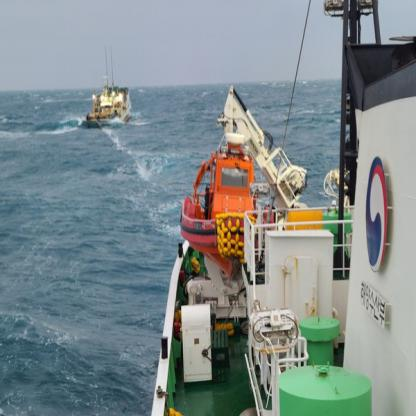fish-b: (82, 40, 136, 132)
